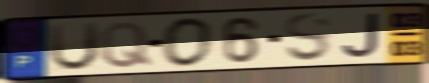6: (222, 15, 262, 65)
J: (339, 11, 382, 60)
O: (160, 16, 215, 69)
Q: (98, 20, 154, 70)
S: (283, 11, 334, 64)
U: (46, 20, 101, 73)
